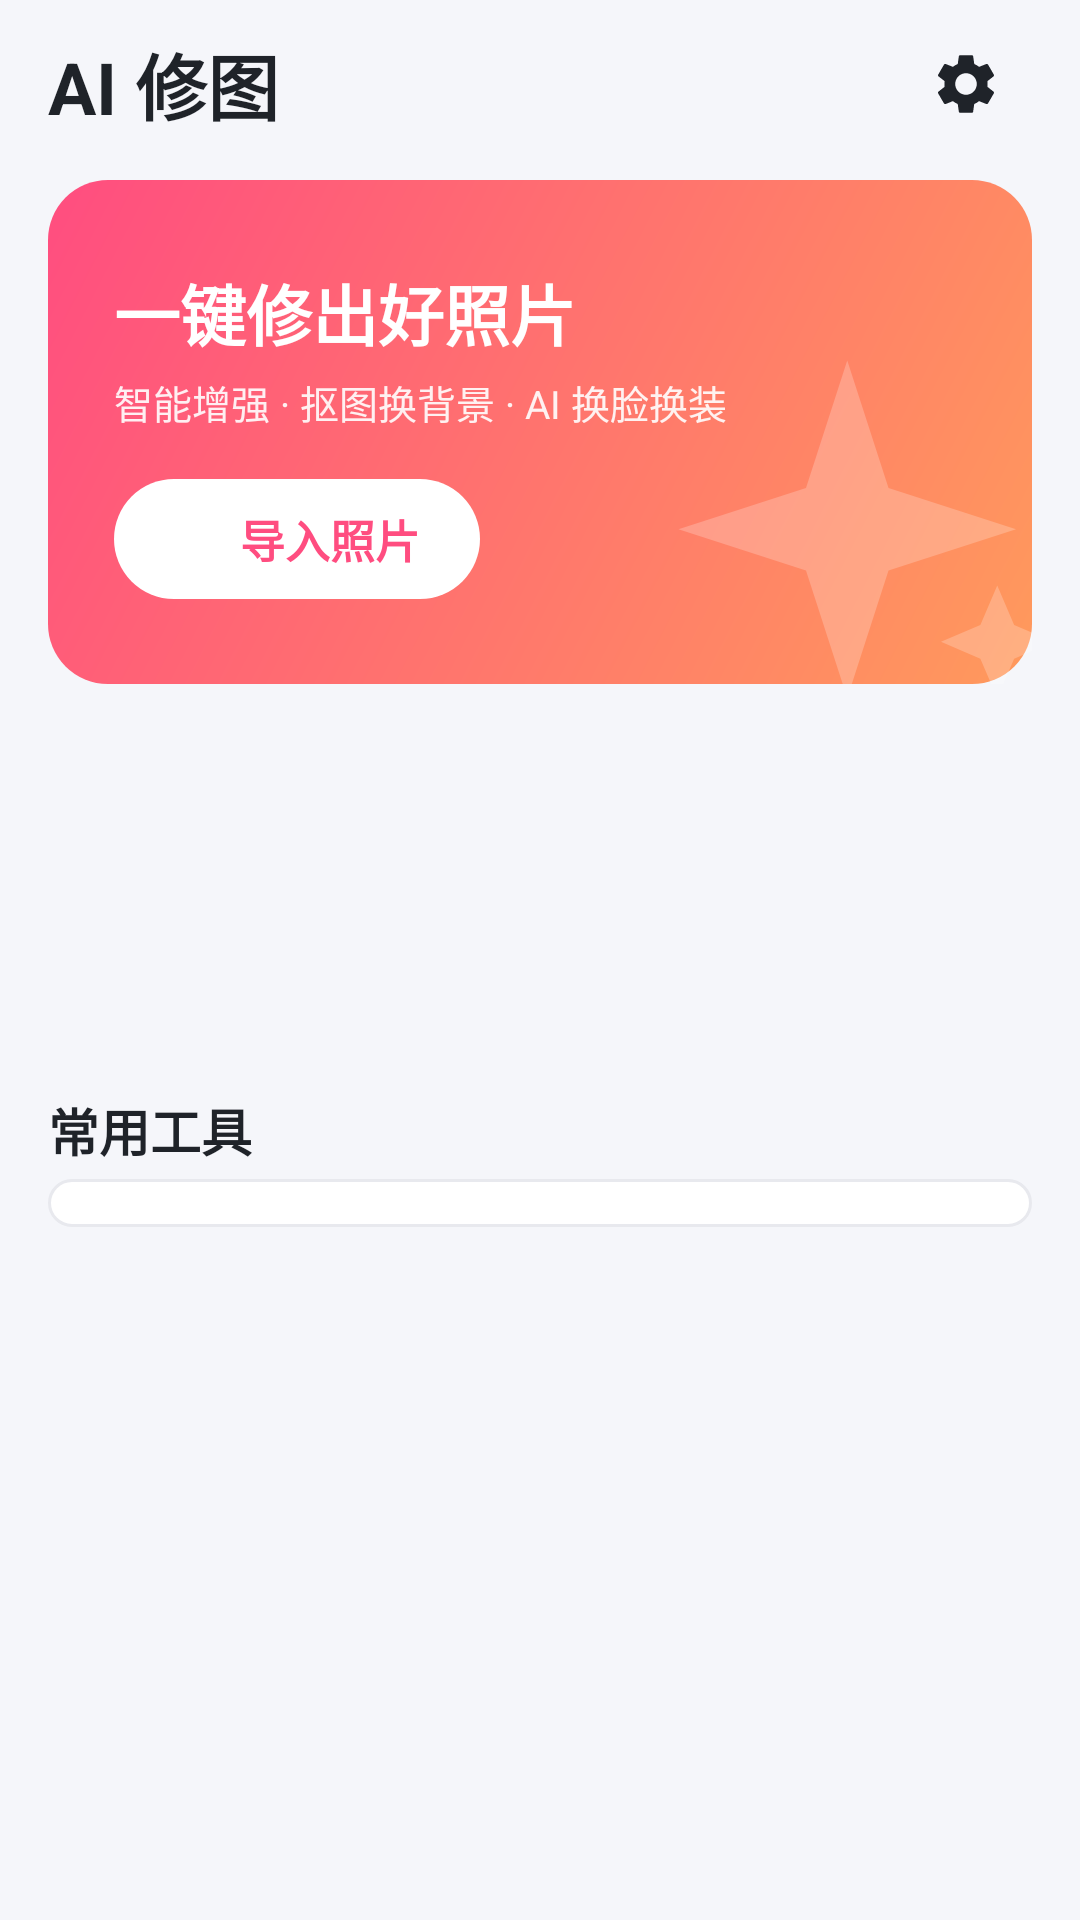

Locate icon controls on the screen. Image size 1080×1920, boxes as (x1, y1, x2, y2).
设置: (938, 55, 994, 113)
